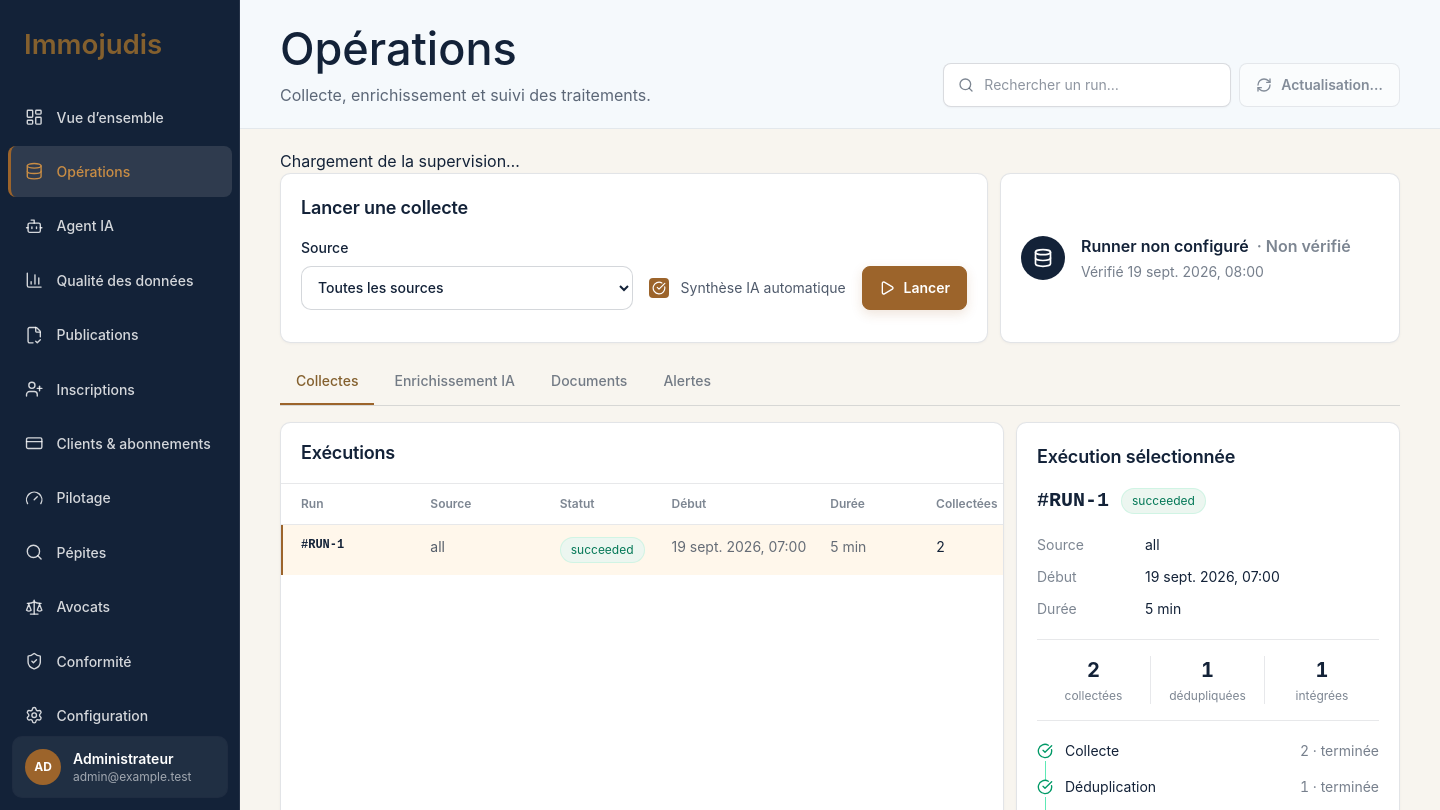
Test: AdminOperationsPage › loads runs and AI coverage, but not the table counts until the Documents tab
The width and height of the screenshot is (1440, 810).
Expected: the heading "Lancer une collecte" is shown, [301,194,468,222]
Step 1. Click the button "Documents" → (589, 382), box [535,359,643,405]
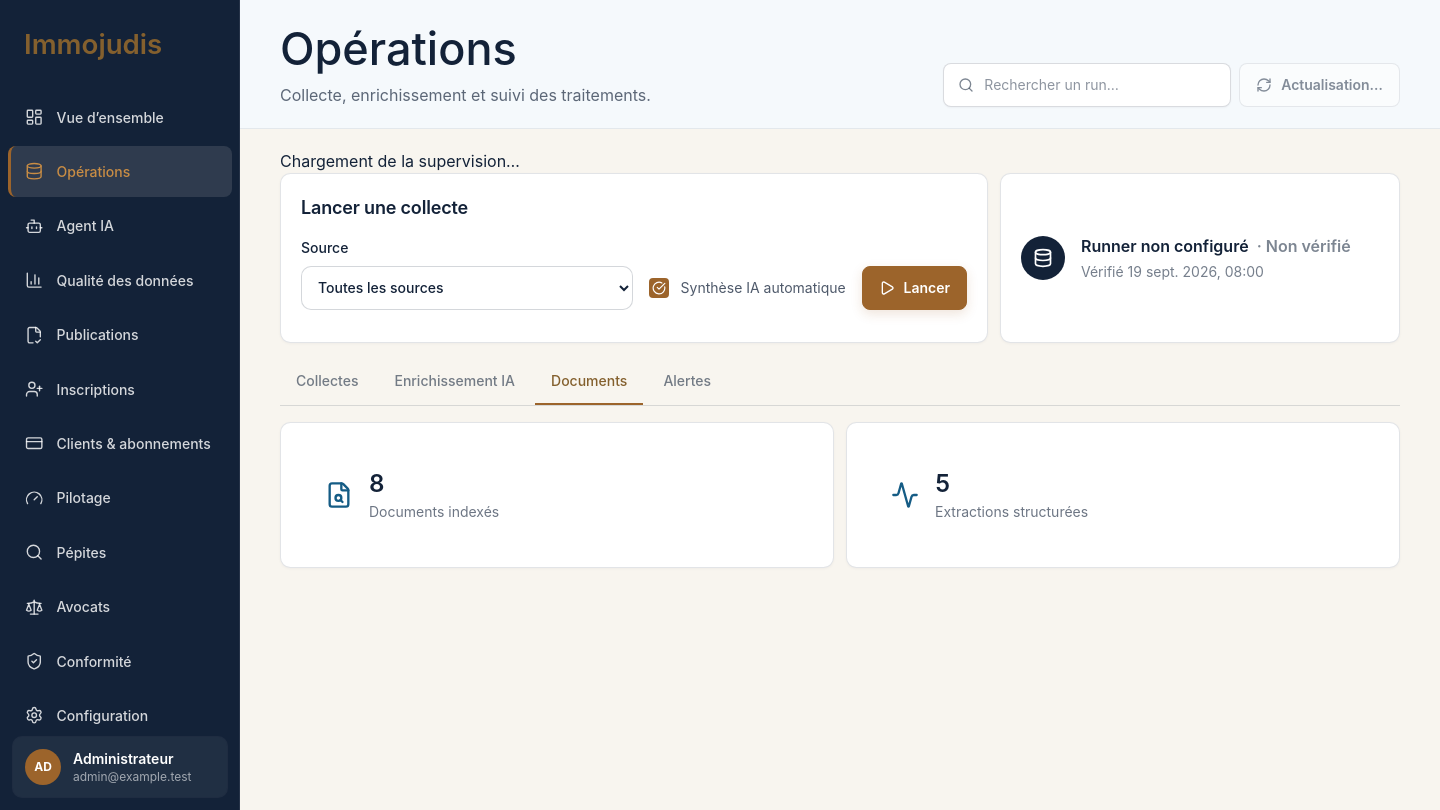
Now the text "Documents indexés" is shown, box [369,502,499,522]
Now the text "8" is shown, box [369,469,384,498]
